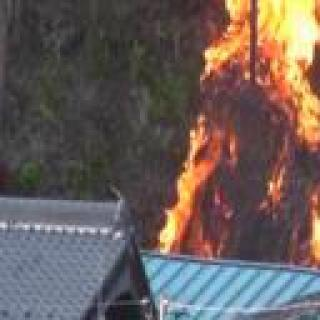fire: (162, 0, 320, 261)
